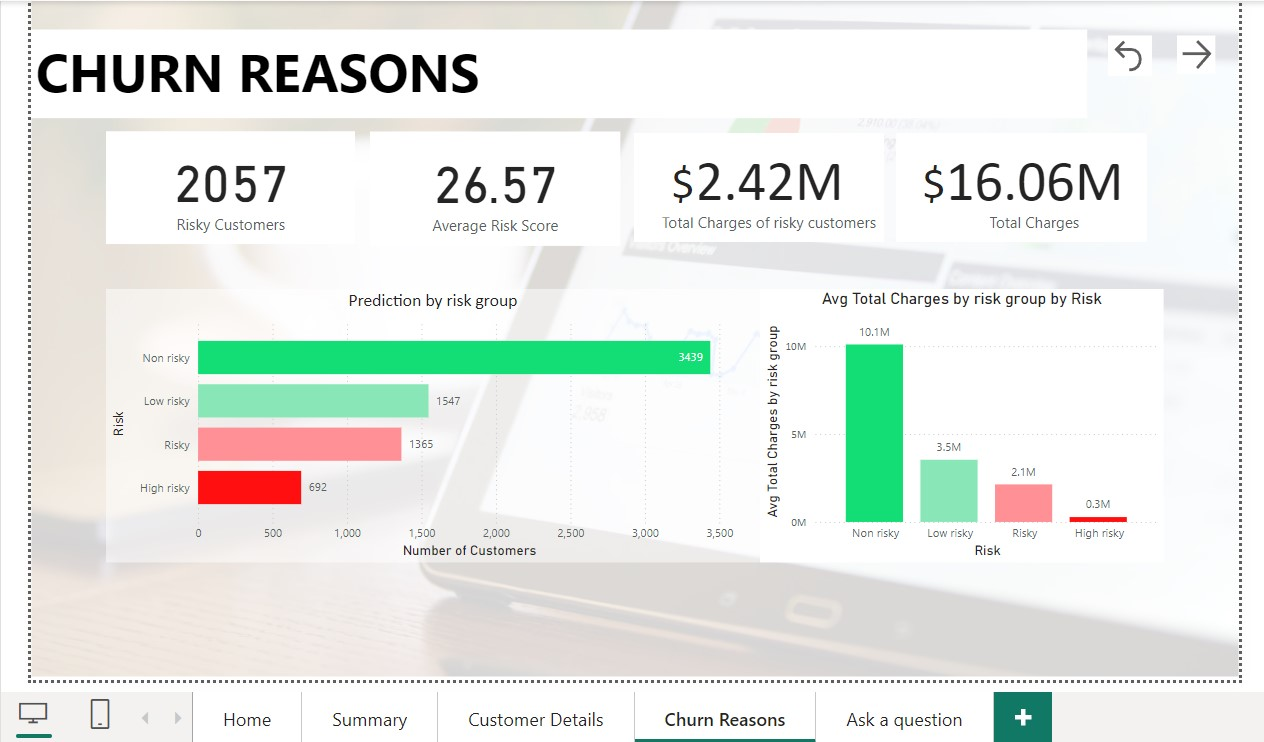

The dashboard page shown, as its layout file describes it:
{"tool":"powerbi","page":{"name":"Churn Reasons","canvas":[1280,720],"ordinal":3},"visuals":[{"type":"shape","box":[79.5,142,265.1,115.5],"z":0},{"type":"clusteredBarChart","title":"Prediction by risk group","fields":{"Category":["Telco-Churn-Analysis-Predictions.Risk"],"Y":["CountNonNull(Telco-Churn-Analysis-Predictions.Risk)"]},"box":[79.5,304.9,693,289.7],"z":1000},{"type":"shape","box":[359.8,140.1,265.1,115.5],"z":2000},{"type":"shape","box":[640,140.1,265.1,115.5],"z":3000},{"type":"shape","box":[918.3,140.1,265.1,115.5],"z":4000},{"type":"card","fields":{"Values":["Sum(Telco-Churn-Analysis-Predictions.TotalCharges)"]},"box":[961.9,142,202.6,107.9],"z":5000},{"type":"card","fields":{"Values":["Sum(Telco-Churn-Analysis-Predictions.TotalCharges)"]},"box":[660.8,142,244.3,107.9],"z":6000},{"type":"card","fields":{"Values":["Avg(Telco-Churn-Analysis-Predictions.Prediction)"]},"box":[359.8,138.2,265.1,121.2],"z":7000},{"type":"card","fields":{"Values":["CountNonNull(Telco-Churn-Analysis-Predictions.Risk)"]},"box":[92.8,140.1,238.6,115.5],"z":8000},{"type":"textbox","box":[640,156.9,69,72.2],"z":9000},{"type":"textbox","box":[918.3,157.2,56.8,72],"z":10000},{"type":"clusteredColumnChart","fields":{"Category":["Telco-Churn-Analysis-Predictions.Risk"],"Y":["Sum(Telco-Churn-Analysis-Predictions.TotalCharges)"]},"box":[772.5,304.9,427.9,289.7],"z":11000},{"type":"actionButton","box":[1141.5,35.8,46.6,43],"z":12000},{"type":"actionButton","box":[1215.5,35.8,40.6,40.6],"z":13000}]}

Visuals, with their boxes on the page's 1280x720 design canvas (x1, y1, x2, y2). These are canvas units, not pixel positions in the 1264x742 screenshot, which may show the page scaled, cropped or inside an application window:
shape: [left=80, top=142, right=345, bottom=258]
"Prediction by risk group" clusteredBarChart: [left=80, top=305, right=772, bottom=595]
shape: [left=360, top=140, right=625, bottom=256]
shape: [left=640, top=140, right=905, bottom=256]
shape: [left=918, top=140, right=1183, bottom=256]
card - Sum(Telco-Churn-Analysis-Predictions.TotalCharges): [left=962, top=142, right=1164, bottom=250]
card - Sum(Telco-Churn-Analysis-Predictions.TotalCharges): [left=661, top=142, right=905, bottom=250]
card - Avg(Telco-Churn-Analysis-Predictions.Prediction): [left=360, top=138, right=625, bottom=259]
card - CountNonNull(Telco-Churn-Analysis-Predictions.Risk): [left=93, top=140, right=331, bottom=256]
textbox: [left=640, top=157, right=709, bottom=229]
textbox: [left=918, top=157, right=975, bottom=229]
clusteredColumnChart - Telco-Churn-Analysis-Predictions.Risk x Sum(Telco-Churn-Analysis-Predictions.TotalCharges): [left=772, top=305, right=1200, bottom=595]
actionButton: [left=1142, top=36, right=1188, bottom=79]
actionButton: [left=1216, top=36, right=1256, bottom=76]
